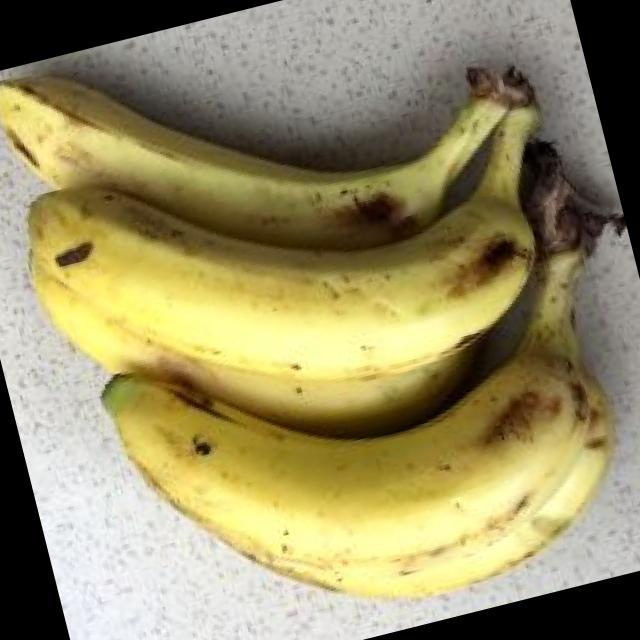banana: (98, 47, 526, 615)
